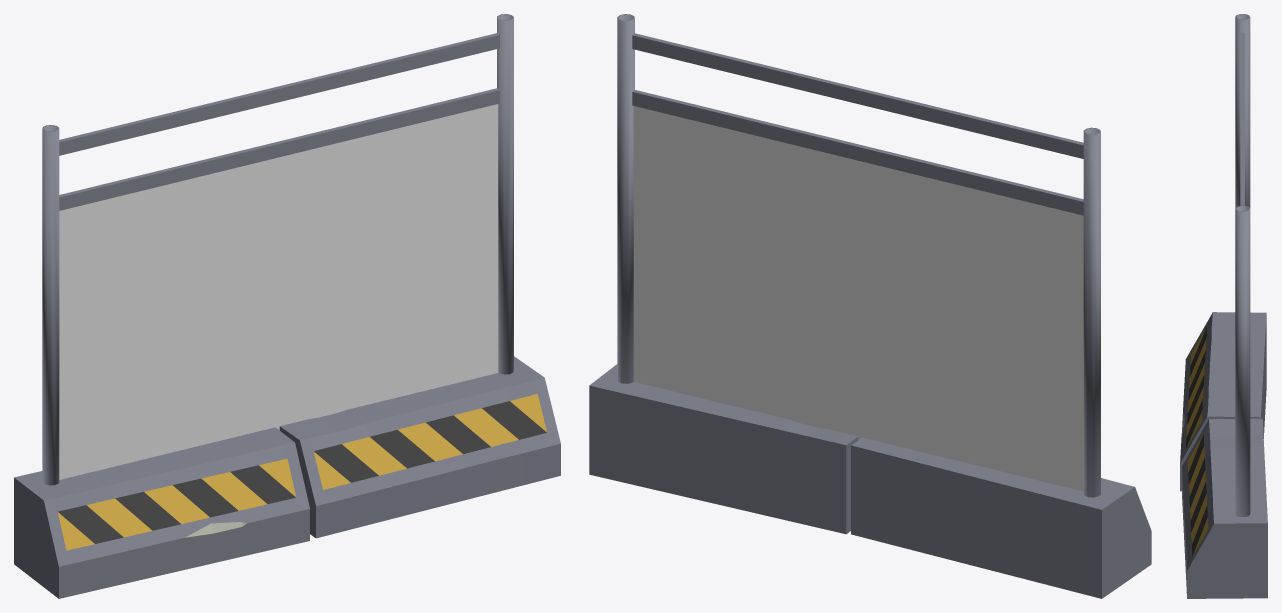
File: Barrier_Large.fbx
The picture shows the model from 3 angles, left to right: view 1: azimuth 30°, elevation 25°; view 2: azimuth 150°, elevation 25°; view 3: azimuth 270°, elevation 25°; orthographic projection. The views are drawn at different scales.
Parts seen in each view (by area): view 1: Barrier_Large; view 2: Barrier_Large; view 3: Barrier_Large.
Part boxes in pixels (left/top/right/bottom): Barrier_Large: left=14, top=14, right=560, bottom=598; Barrier_Large: left=589, top=14, right=1151, bottom=598; Barrier_Large: left=1180, top=14, right=1267, bottom=598.
Size of the model in its own units: 381 by 318 by 66.66.
